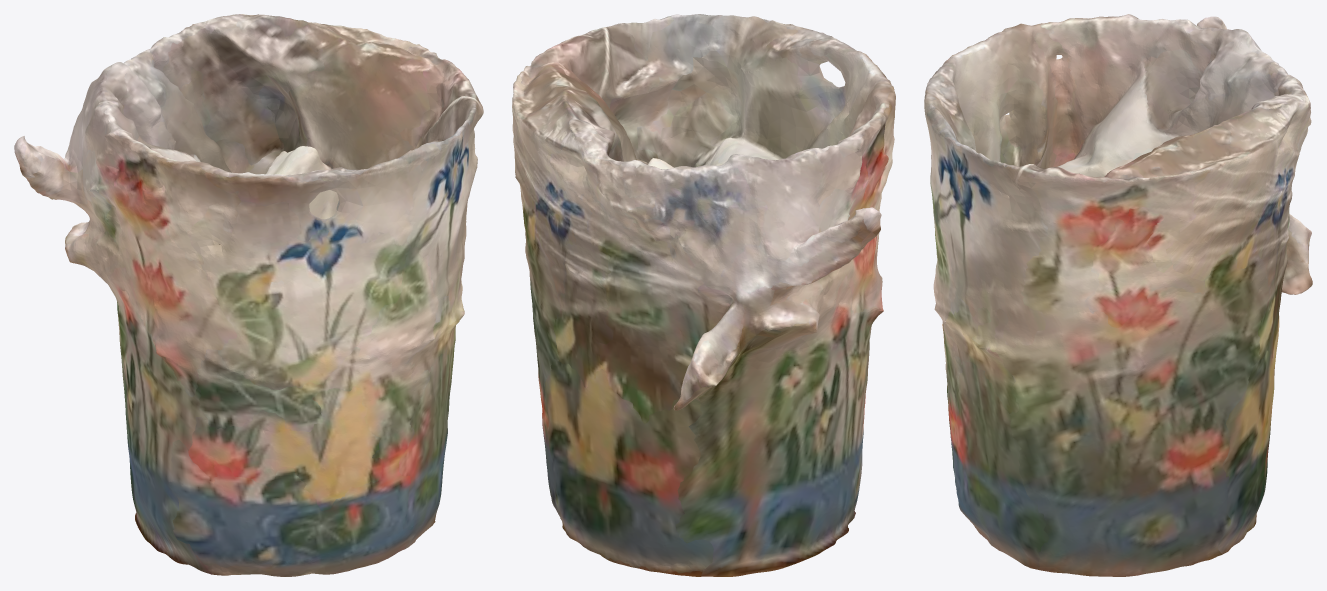
Rendered from bathroom_trash_bin-transformed.glb.
3 renders of one model, left to right at view 1: azimuth 30°, elevation 25°; view 2: azimuth 150°, elevation 25°; view 3: azimuth 270°, elevation 25°, orthographic.
Parts seen in each view (by area): view 1: Object_2; view 2: Object_2; view 3: Object_2.
Part boxes in pixels (left/top/right/bottom): Object_2: left=14, top=14, right=483, bottom=576; Object_2: left=512, top=14, right=895, bottom=576; Object_2: left=924, top=14, right=1312, bottom=576.
Size of the model in its own units: 0.2394 by 0.2573 by 0.2078.
1 material, 1 textured.
